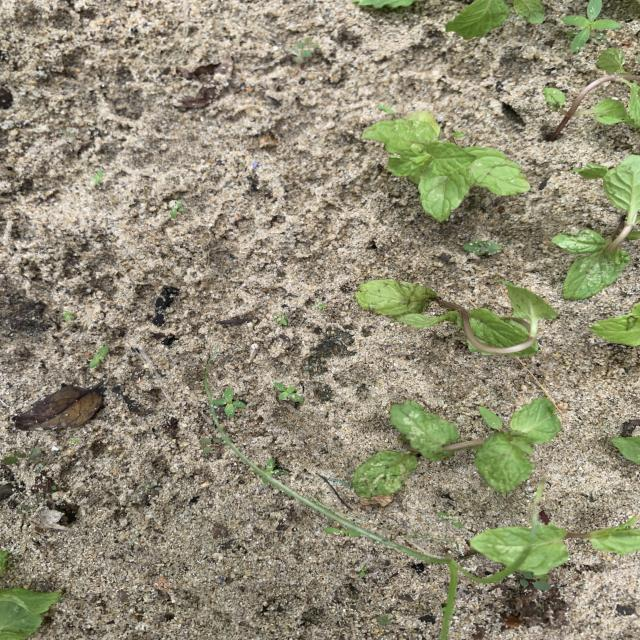crop: (362, 112, 528, 219), (356, 280, 556, 358), (394, 398, 559, 491), (553, 155, 639, 298), (470, 505, 639, 577), (544, 48, 639, 133), (444, 1, 543, 37), (1, 588, 59, 639), (591, 302, 639, 345), (612, 436, 639, 463)
weed: (222, 440, 516, 638), (563, 0, 619, 50), (212, 386, 246, 418), (3, 447, 43, 464), (291, 38, 319, 60), (274, 382, 303, 403), (520, 573, 550, 590), (463, 241, 499, 255), (90, 345, 107, 367), (439, 512, 463, 527), (169, 199, 185, 218), (201, 438, 221, 451), (375, 616, 391, 627), (378, 104, 394, 114), (61, 311, 75, 322), (275, 315, 287, 325), (317, 303, 326, 310)
